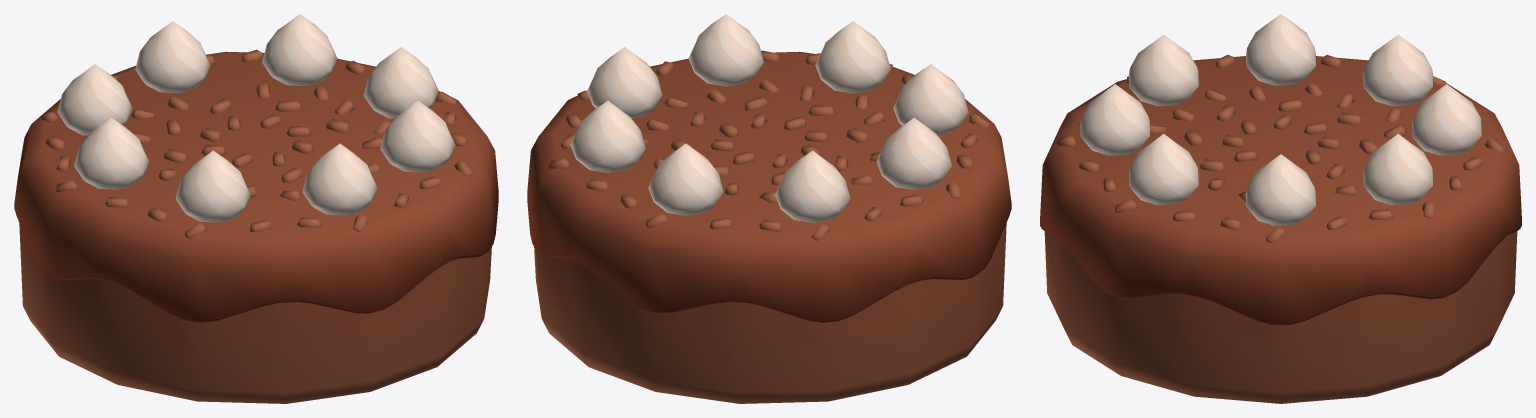
The model's file is cake_chocolate.obj.
3 renders of one model, left to right at view 1: azimuth 30°, elevation 25°; view 2: azimuth 150°, elevation 25°; view 3: azimuth 270°, elevation 25°, orthographic.
Parts seen in each view (by area): view 1: cake_chocolate; view 2: cake_chocolate; view 3: cake_chocolate.
Part boxes in pixels (x1,y1,x2,y2): cake_chocolate: (14, 14, 498, 403); cake_chocolate: (527, 14, 1011, 403); cake_chocolate: (1040, 14, 1521, 403).
Bounding box in the file's own units: 1.22 × 0.6442 × 1.22.
Materials: 1 (1 with a texture image).
